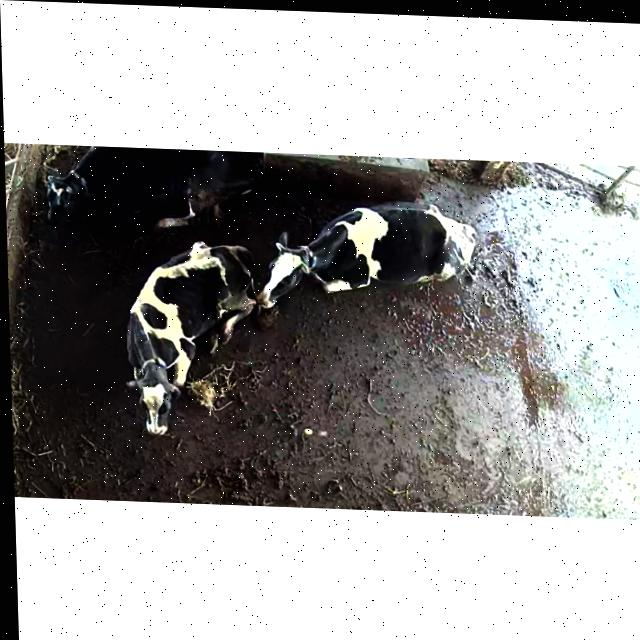lay: (96, 231, 268, 453), (256, 186, 499, 323), (33, 144, 258, 232)
